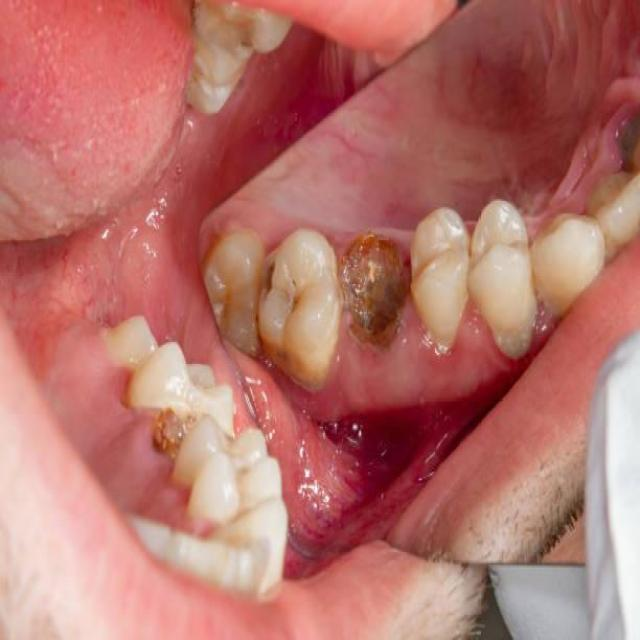caries: (334, 225, 420, 355), (147, 390, 219, 474), (254, 247, 292, 316)
